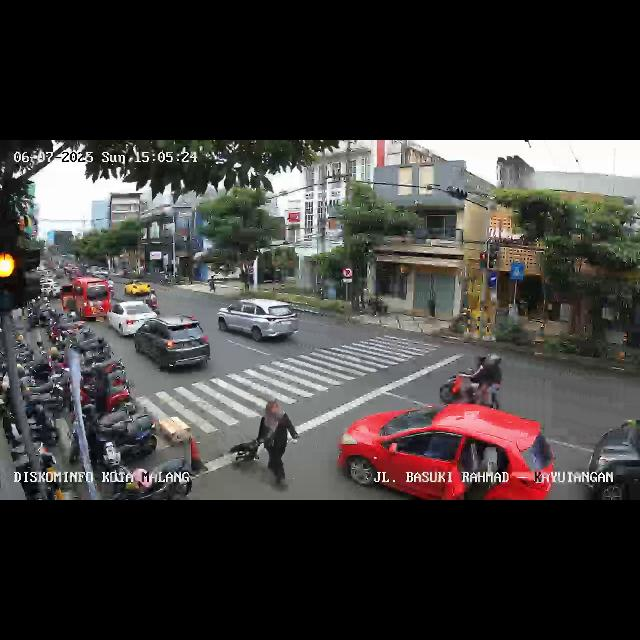car: (338, 402, 554, 500), (134, 314, 212, 374), (586, 413, 640, 499), (216, 298, 300, 347), (61, 277, 110, 323), (107, 300, 157, 338), (124, 279, 150, 295)
motorcycle: (438, 350, 504, 408), (144, 289, 160, 313)
person: (261, 398, 295, 492)
